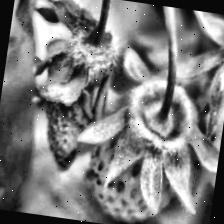Gray Mold: (0, 0, 127, 176)
